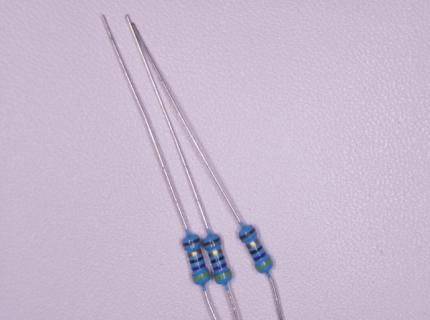Black band: (250, 245, 263, 255), (190, 256, 204, 264), (211, 256, 225, 263)
Brown band: (240, 228, 255, 240), (183, 237, 200, 246), (204, 237, 220, 246)
Gold band: (246, 238, 260, 249), (208, 248, 223, 257), (187, 249, 202, 257)
Violet band: (253, 251, 267, 261), (192, 263, 206, 272), (213, 262, 227, 271)
Yellow band: (256, 258, 272, 270), (214, 270, 231, 280), (193, 271, 210, 280)
